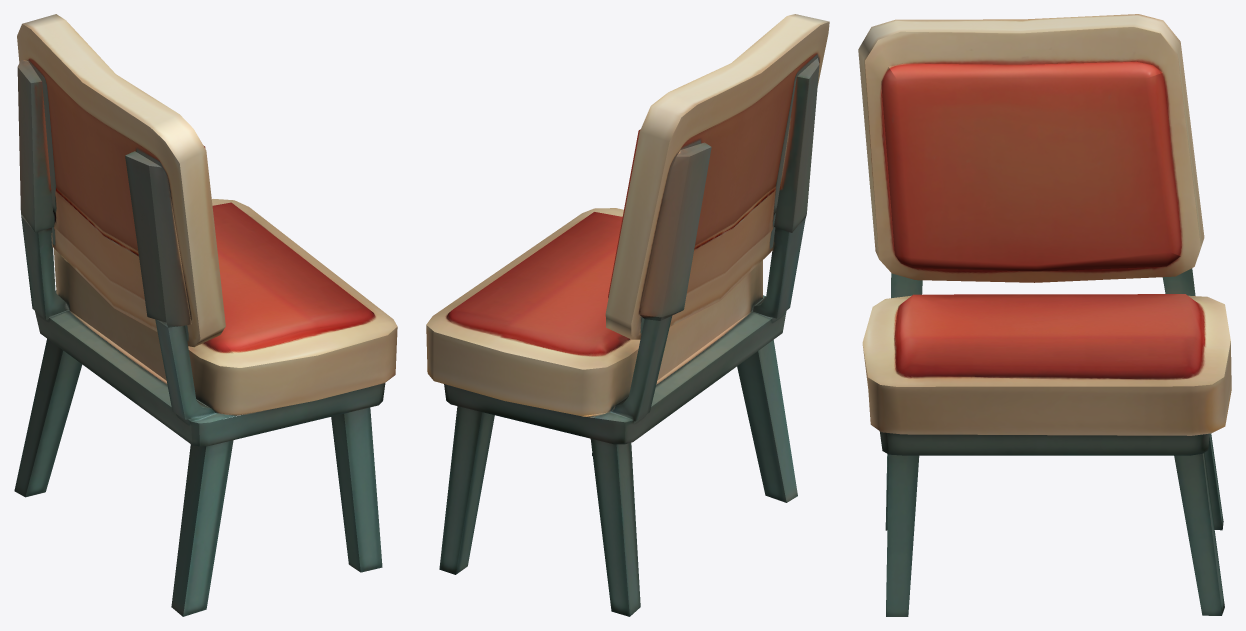
The model's file is Dining chair.fbx.
The picture shows the model from 3 angles, left to right: view 1: azimuth 30°, elevation 25°; view 2: azimuth 150°, elevation 25°; view 3: azimuth 270°, elevation 25°; orthographic projection. The views are drawn at different scales.
Parts seen in each view (by area): view 1: Chair; view 2: Chair; view 3: Chair.
Boxes of the visible parts, x1,y1,x2,y2 form: Chair: [14, 14, 397, 616]; Chair: [426, 14, 829, 616]; Chair: [858, 14, 1231, 616].
Bounding box in the file's own units: 28.04 × 52.88 × 35.93.
Materials: 1 (1 with a texture image).
